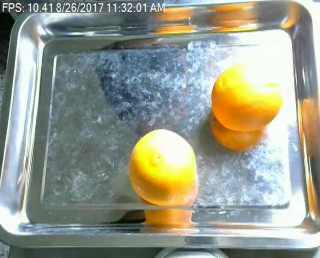Orange: (129, 129, 198, 206), (211, 62, 283, 132)
